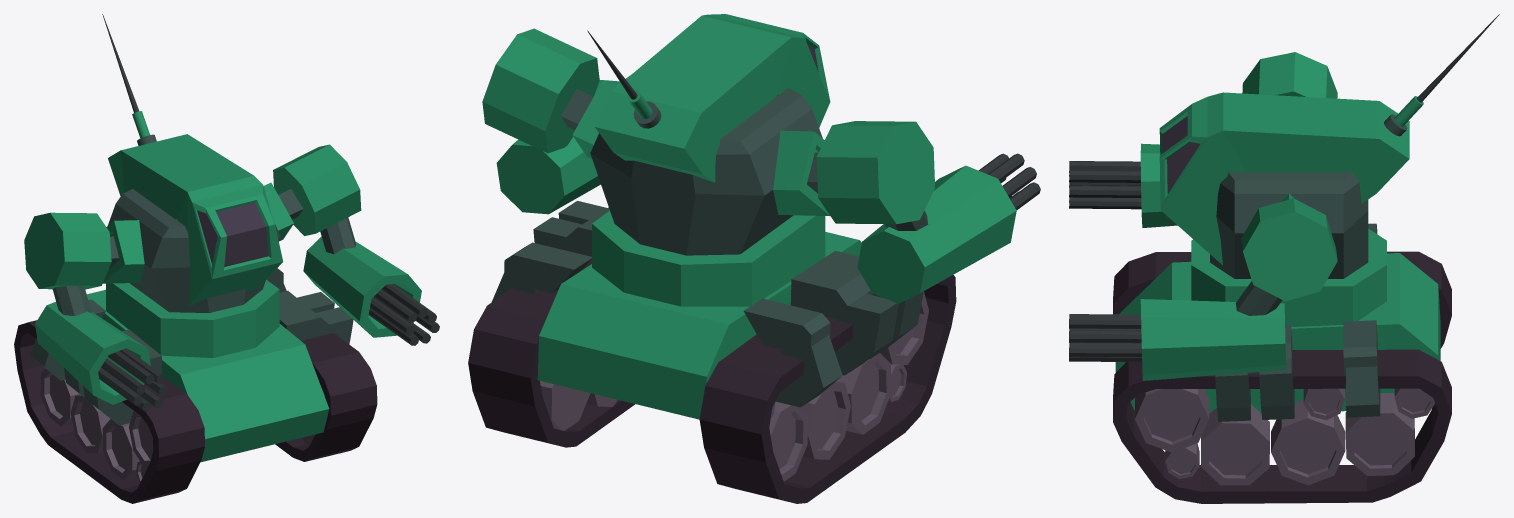
Rendered from Mech.fbx.
3 views of the same model, side by side, from view 1: azimuth 30°, elevation 25°; view 2: azimuth 150°, elevation 25°; view 3: azimuth 270°, elevation 25° (orthographic). The views are drawn at different scales.
Visible parts, largest first — view 1: UpperBody, LowerBody, Tread.R, Wrist.L, Wrist.R, Tread.L, Shoulder.R, Shoulder.L, Arm.R, Arm.L; view 2: UpperBody, LowerBody, Tread.R, Wrist.R, Tread.L, Shoulder.R, Shoulder.L, Wrist.L; view 3: UpperBody, LowerBody, Tread.L, Wrist.L, Shoulder.L, Wrist.R, Tread.R, Shoulder.R, Arm.L.
Boxes of the visible parts, x1,y1,x2,y2 form: UpperBody: [102, 14, 302, 357]; LowerBody: [30, 268, 353, 482]; Tread.R: [14, 320, 204, 503]; Wrist.L: [303, 236, 439, 345]; Wrist.R: [35, 302, 167, 411]; Tread.L: [275, 333, 377, 461]; Shoulder.R: [24, 212, 111, 289]; Shoulder.L: [273, 144, 361, 235]; Arm.R: [52, 286, 91, 315]; Arm.L: [320, 217, 355, 254]; UpperBody: [561, 14, 830, 306]; LowerBody: [492, 201, 928, 481]; Tread.R: [699, 275, 956, 503]; Wrist.R: [857, 153, 1040, 303]; Tread.L: [468, 259, 635, 447]; Shoulder.R: [816, 121, 934, 224]; Shoulder.L: [482, 28, 599, 153]; Wrist.L: [496, 76, 629, 214]; UpperBody: [1159, 14, 1499, 326]; LowerBody: [1115, 223, 1440, 485]; Tread.L: [1113, 349, 1451, 503]; Wrist.L: [1069, 299, 1286, 380]; Shoulder.L: [1241, 198, 1337, 301]; Wrist.R: [1069, 143, 1177, 227]; Tread.R: [1113, 251, 1451, 348]; Shoulder.R: [1242, 52, 1337, 98]; Arm.L: [1235, 281, 1282, 315].
Size of the model in its own units: 2063 by 2168 by 1979.
